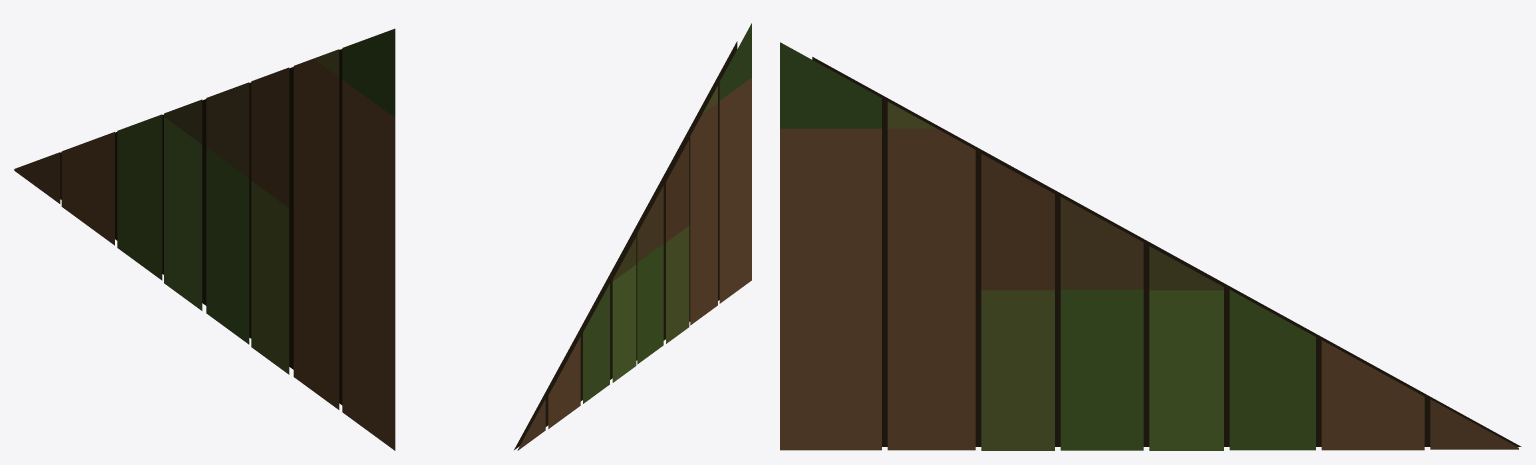
File: wall-mossy-gable-l.glb
3 views of the same model, side by side, from view 1: azimuth 30°, elevation 25°; view 2: azimuth 150°, elevation 25°; view 3: azimuth 270°, elevation 25° (orthographic). The views are drawn at different scales.
Parts seen in each view (by area): view 1: wall-mossy-gable-l; view 2: wall-mossy-gable-l; view 3: wall-mossy-gable-l.
Part boxes in pixels (x1,y1,x2,y2): wall-mossy-gable-l: (14,28,395,450); wall-mossy-gable-l: (514,23,751,450); wall-mossy-gable-l: (780,42,1521,450).
Bounding box in the file's own units: 0.0985 × 0.6346 × 1.05.
